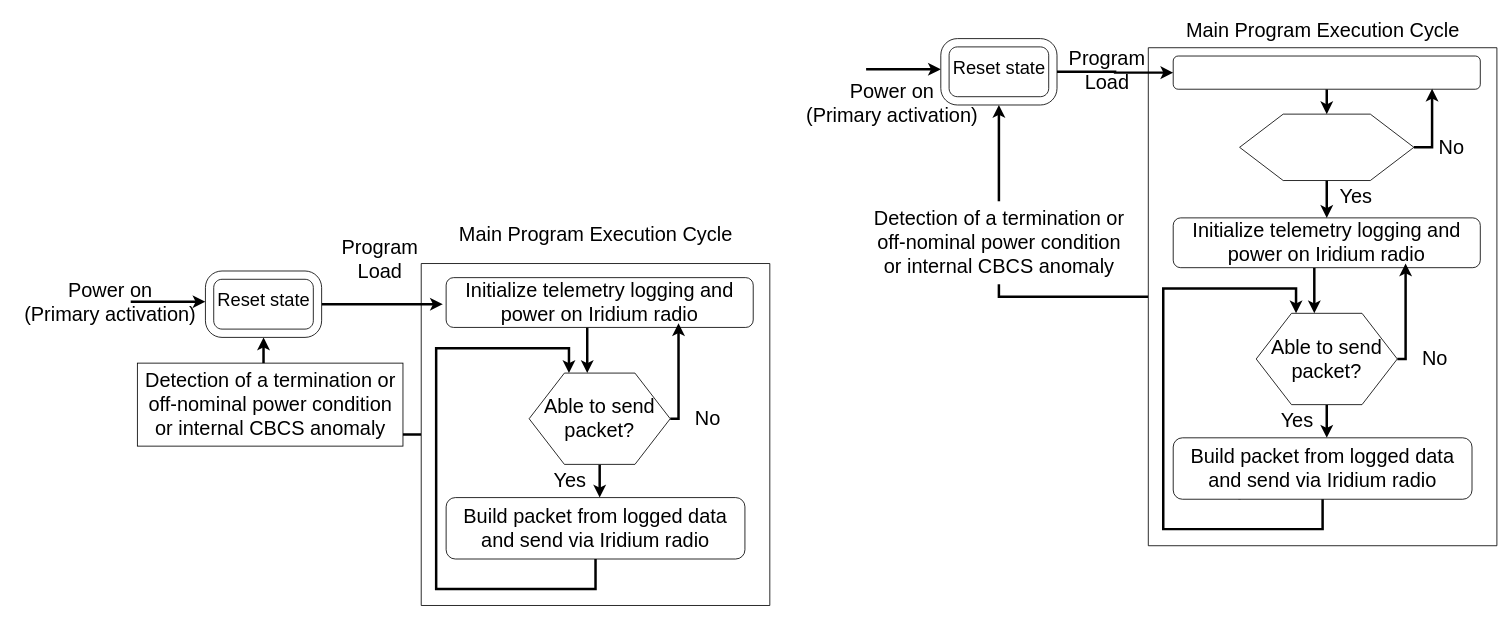
Image size: 1511x620. Some labels were removed from this diagram. Each missing label, with the centre of its shape:
"Poll secondary activation sources" belongs at point (1326, 72).
"Separation Detected?" belongs at point (1326, 147).
